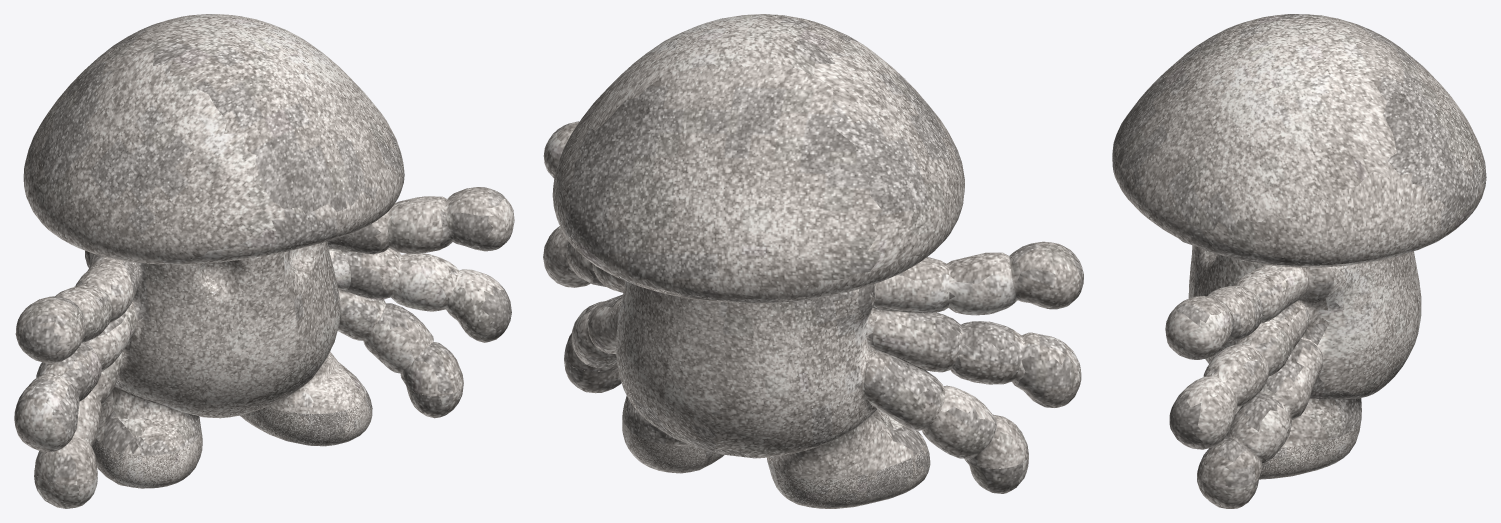
The model's file is 17-shellcap-manyarm--mushroom_creature_3d_model.glb.
The picture shows the model from 3 angles, left to right: view 1: azimuth 30°, elevation 25°; view 2: azimuth 150°, elevation 25°; view 3: azimuth 270°, elevation 25°; orthographic projection. The views are drawn at different scales.
Visible parts, largest first — view 1: head_mesh, arms_mesh, body_mesh, feet_mesh; view 2: head_mesh, arms_mesh, body_mesh, feet_mesh; view 3: head_mesh, arms_mesh, body_mesh, feet_mesh.
Part boxes in pixels (x1,y1,x2,y2): head_mesh: (23,14,404,264); arms_mesh: (14,187,514,508); body_mesh: (105,232,362,455); feet_mesh: (92,385,372,488); head_mesh: (552,14,964,298); arms_mesh: (543,121,1083,493); body_mesh: (575,249,904,479); feet_mesh: (622,415,930,508); head_mesh: (1112,14,1486,265); arms_mesh: (1165,239,1427,508); body_mesh: (1188,220,1465,440); feet_mesh: (1259,339,1360,479).
Size of the model in its own units: 3.79 by 3 by 2.59.
Materials: 4 (4 with a texture image).
